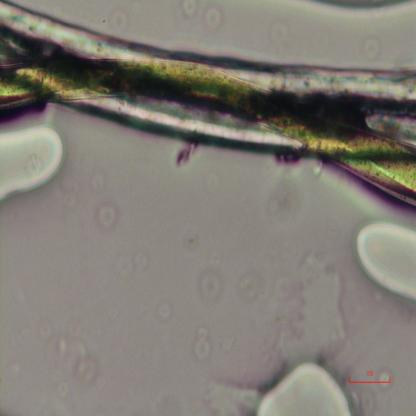Air bubble: (254, 356, 354, 415), (350, 216, 416, 305), (0, 119, 67, 206), (303, 0, 409, 14)
Background material: (273, 244, 351, 374), (266, 166, 306, 222), (57, 340, 96, 381), (116, 244, 154, 280), (230, 268, 262, 306), (171, 226, 203, 259), (191, 326, 215, 363), (197, 271, 224, 302), (96, 196, 117, 234), (36, 311, 58, 345), (106, 7, 128, 37), (203, 5, 223, 34), (368, 37, 386, 61), (182, 0, 203, 20), (379, 365, 394, 392), (165, 302, 180, 325)
Microfibre: (0, 0, 416, 153), (0, 57, 416, 206)
